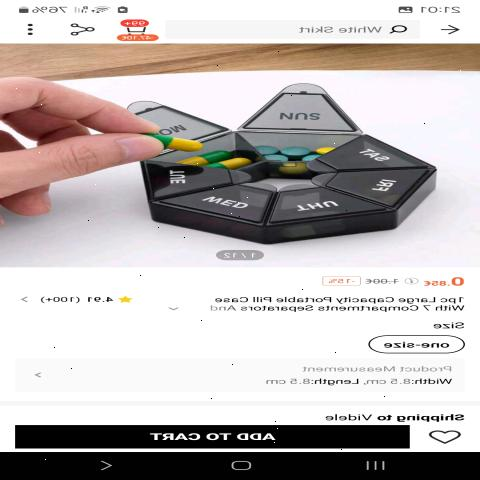PillBox: (118, 84, 442, 241)
